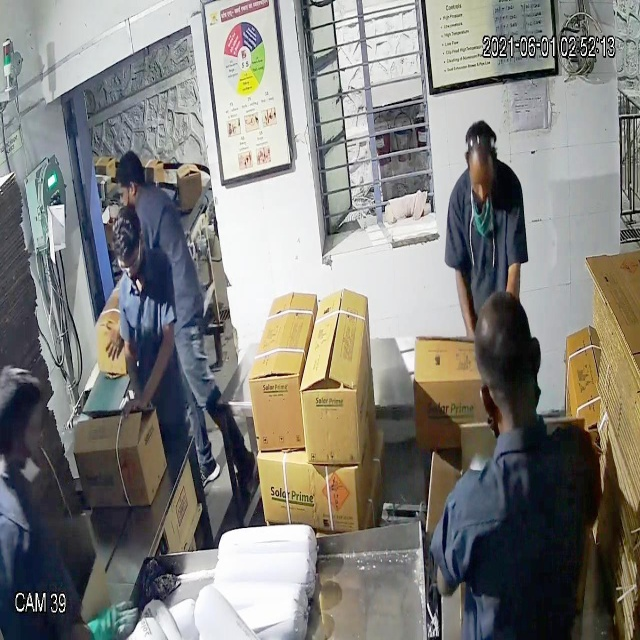Gafas: (112, 242, 145, 279)
